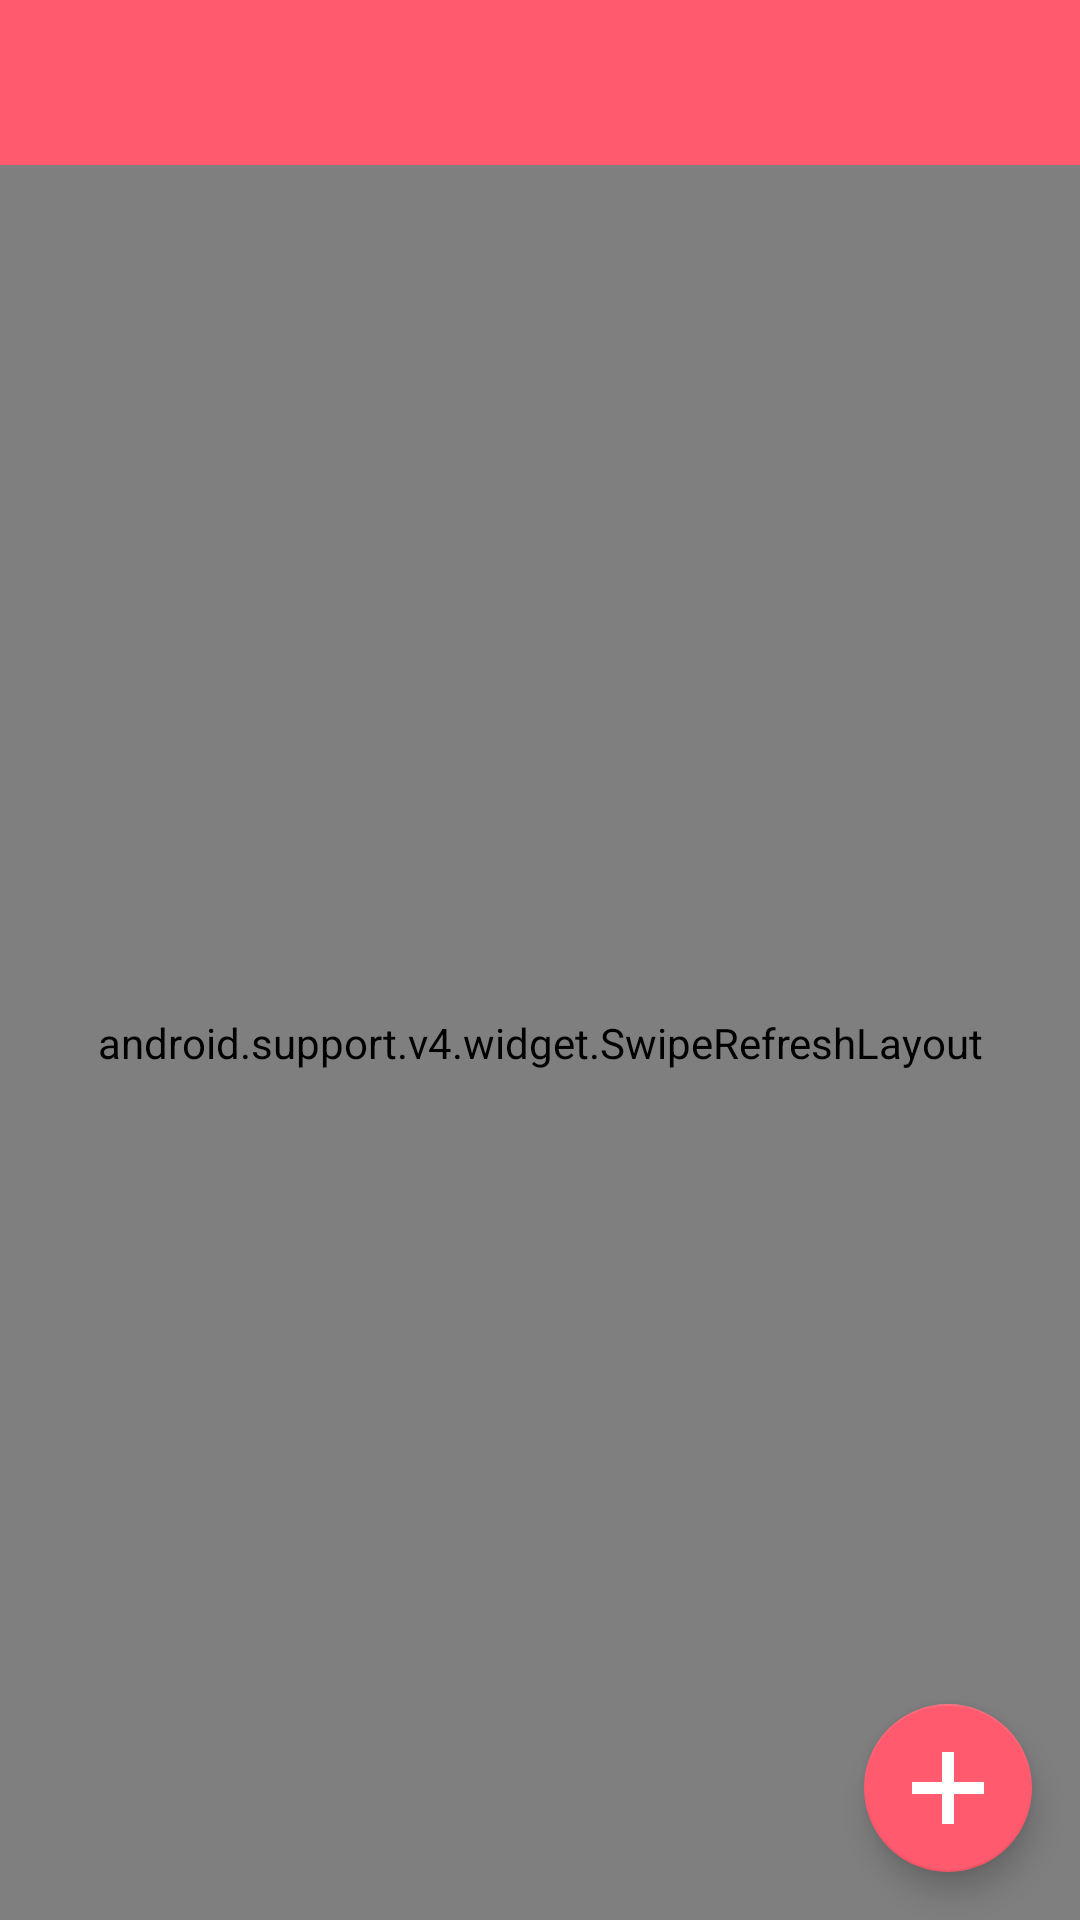

Locate icon controls on the screen. Image size 1080×1920, boxes as (x1, y1, x2, y2).
floatingadd: (864, 1704, 1032, 1872)
